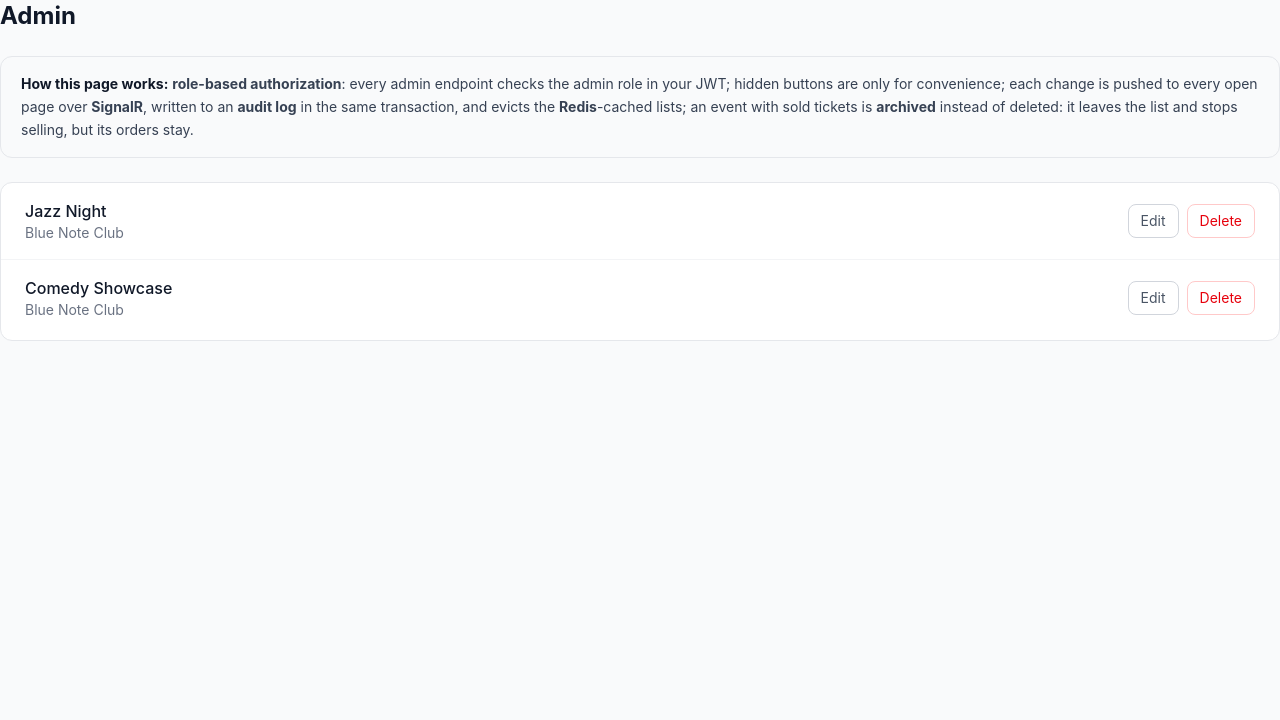
Test: AdminPage › shows an error and keeps the event when the delete fails
Click the button with aria-label "Delete Comedy Showcase". click: click(1221, 298)
box: [1187,281,1255,315]
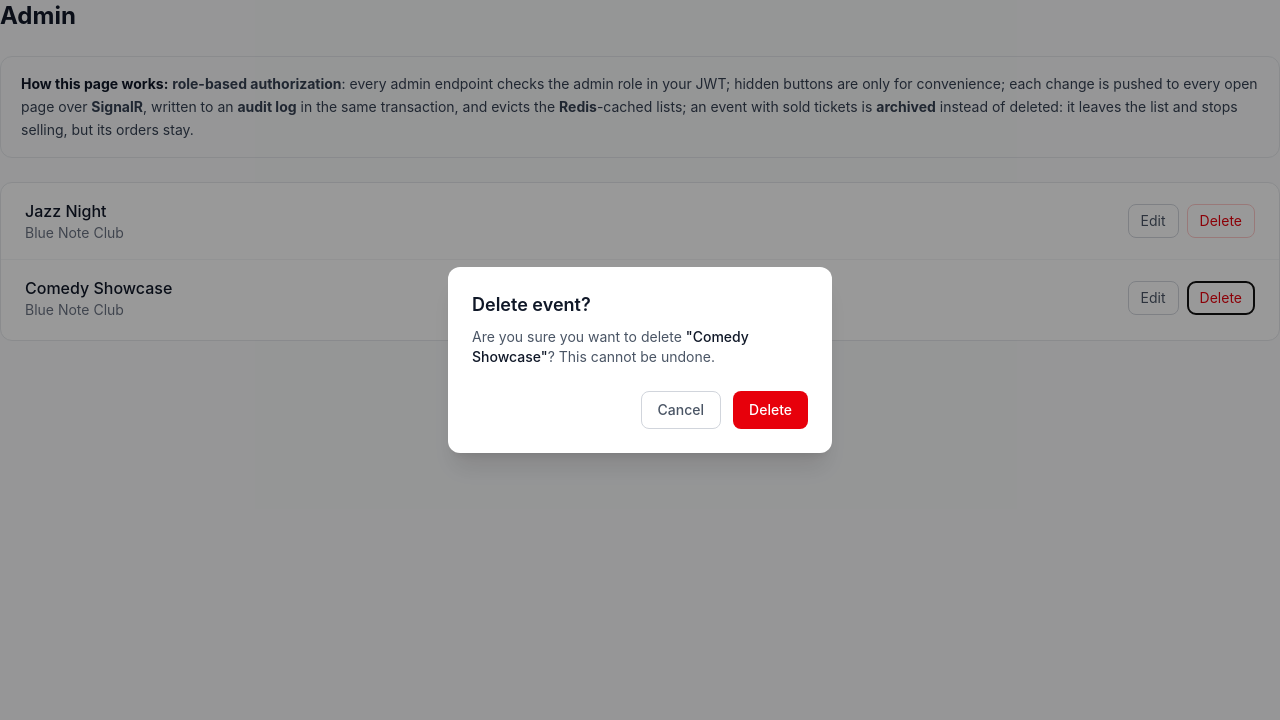
Click the button "Delete". click: click(771, 410)
box: [733,391,808,429]
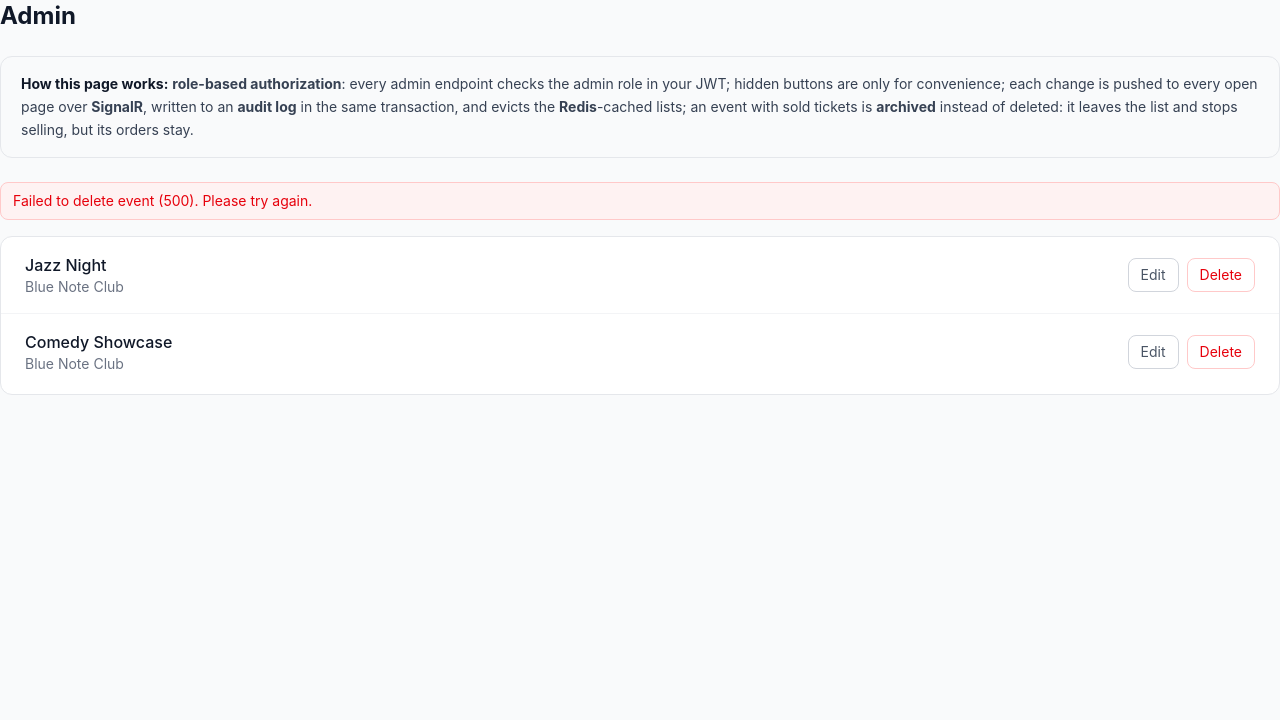
Expected: the text "Comedy Showcase" is shown, [25,330,172,354]
Expected: the message reads "Failed to delete event (500). Please try again.", [13,192,312,209]
